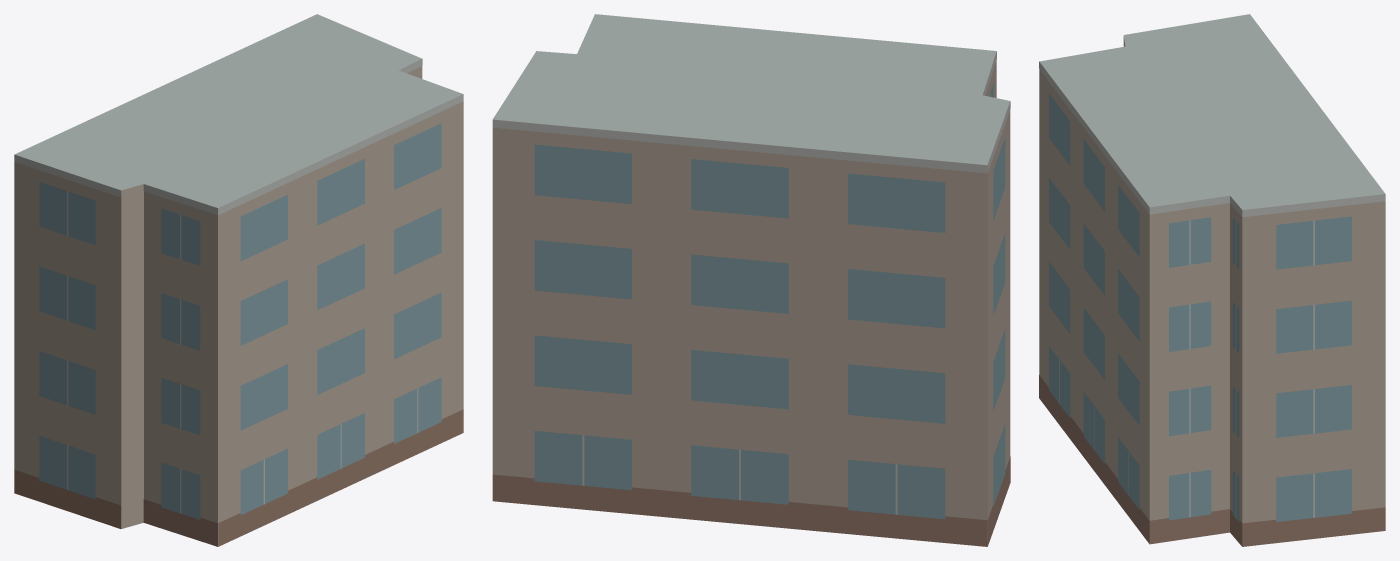
Rendered from survey-upis-32958573.glb.
3 renders of one model, left to right at view 1: azimuth 30°, elevation 25°; view 2: azimuth 150°, elevation 25°; view 3: azimuth 270°, elevation 25°, orthographic. The views are drawn at different scales.
Visible parts, largest first — view 1: survey-upis-32958573.tmp; view 2: survey-upis-32958573.tmp; view 3: survey-upis-32958573.tmp.
Boxes of the visible parts, x1,y1,x2,y2 form: survey-upis-32958573.tmp: (14,14,463,546); survey-upis-32958573.tmp: (492,14,1010,546); survey-upis-32958573.tmp: (1039,14,1385,546).
Bounding box in the file's own units: 14.37 × 11.5 × 10.73.
